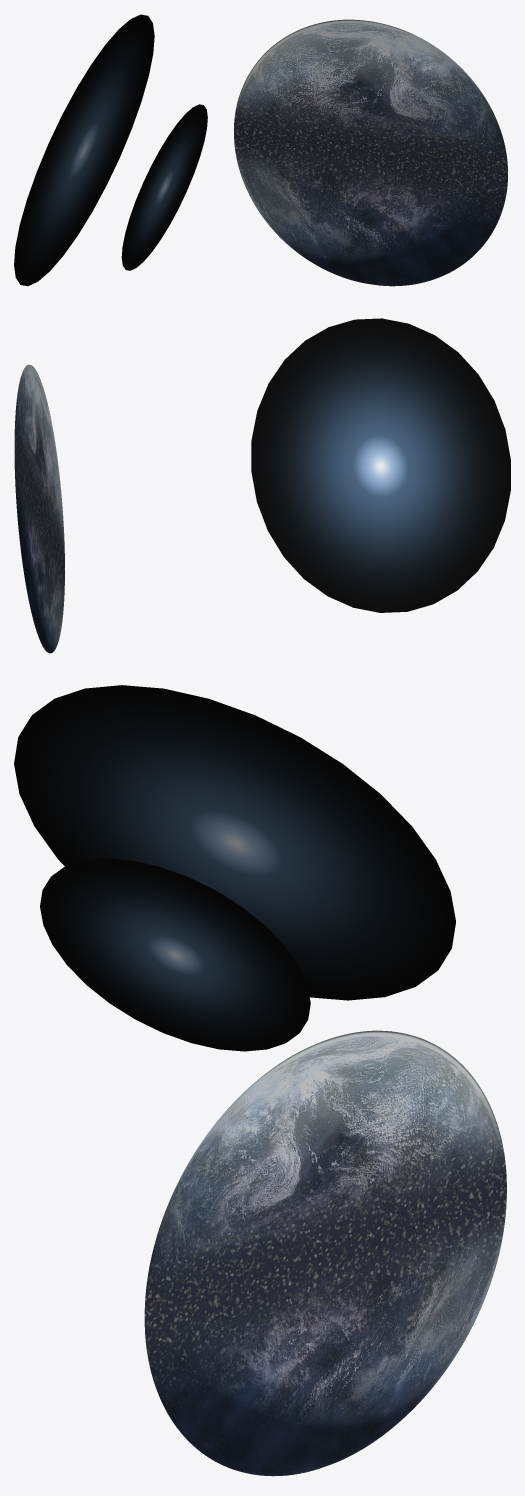
File: Planet.fbx
3 views of the same model, one above another, from view 1: azimuth 30°, elevation 25°; view 2: azimuth 150°, elevation 25°; view 3: azimuth 270°, elevation 25° (orthographic). The views are drawn at different scales.
Visible parts, largest first — view 1: Planet, BackSun, FrontSun; view 2: BackSun, Planet; view 3: Planet, BackSun, FrontSun.
Part boxes in pixels (x1=…): Planet: x1=234, y1=19, x2=507, y2=286; BackSun: x1=14, y1=14, x2=154, y2=286; FrontSun: x1=121, y1=104, x2=207, y2=270; BackSun: x1=251, y1=318, x2=510, y2=612; Planet: x1=14, y1=364, x2=64, y2=653; Planet: x1=144, y1=1030, x2=506, y2=1476; BackSun: x1=14, y1=685, x2=455, y2=1000; FrontSun: x1=40, y1=858, x2=310, y2=1051.
Size of the model in its own units: 194 by 137 by 108.
